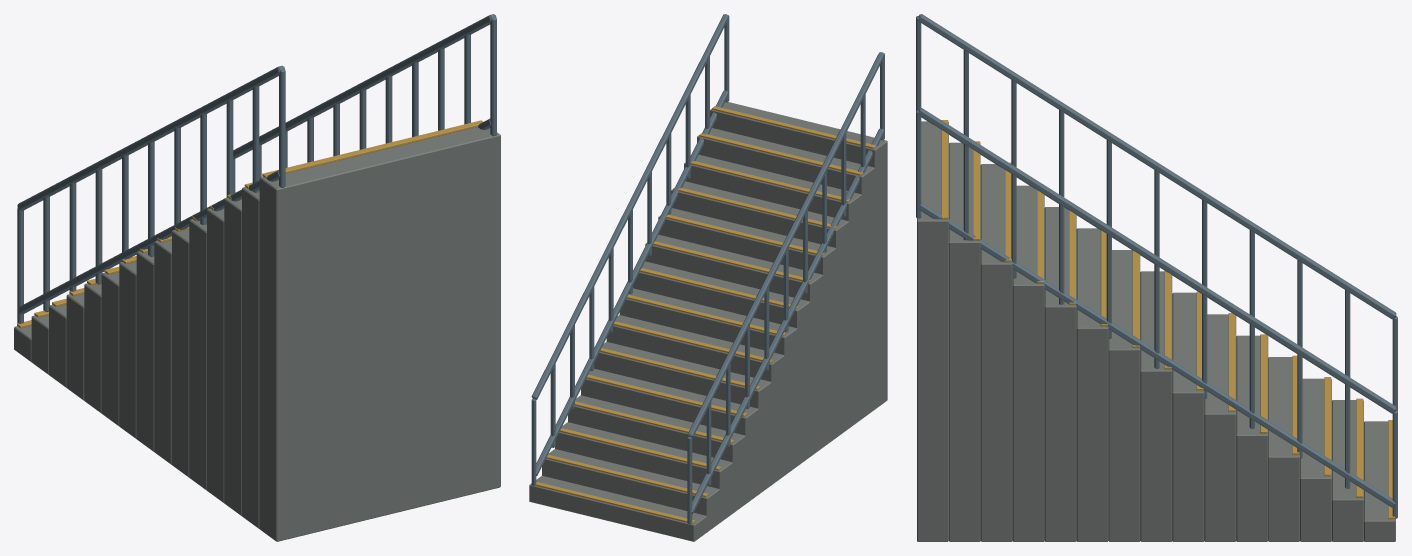
The model's file is architecture-stairs.lod0.glb.
3 views of the same model, side by side, from view 1: azimuth 30°, elevation 25°; view 2: azimuth 150°, elevation 25°; view 3: azimuth 270°, elevation 25° (orthographic). The views are drawn at different scales.
Parts seen in each view (by area): view 1: architecture-stairs__body; view 2: architecture-stairs__body; view 3: architecture-stairs__body.
Part boxes in pixels (x1=…): architecture-stairs__body: x1=14, y1=14, x2=500, y2=541; architecture-stairs__body: x1=529, y1=14, x2=887, y2=541; architecture-stairs__body: x1=916, y1=14, x2=1397, y2=541.
Bounding box in the file's own units: 2 × 4.02 × 4.07.
